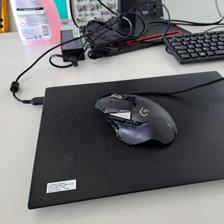mouse: (92, 91, 177, 148)
